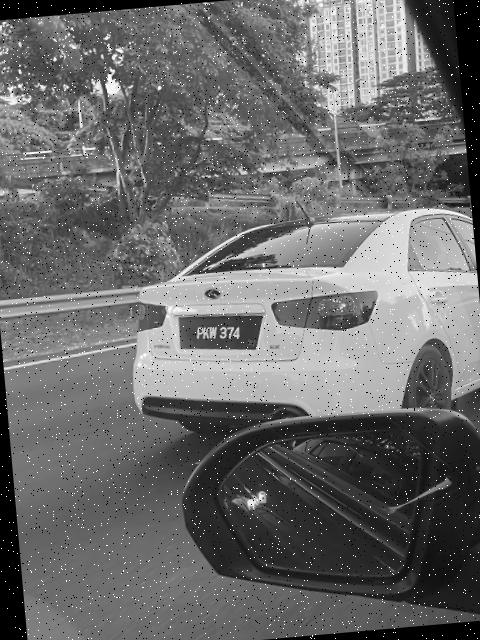License_Plate: (174, 305, 273, 362)
car: (121, 202, 480, 474)
